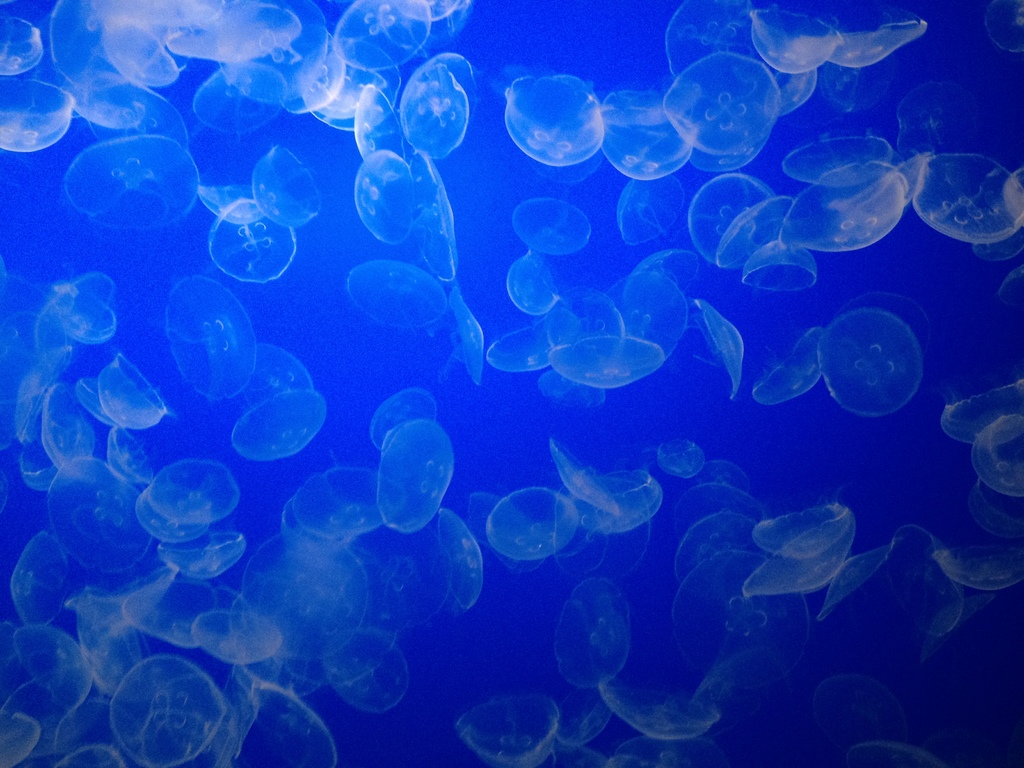Jellyfish: (0, 0, 1023, 767), (506, 67, 606, 159)
